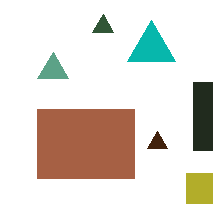rectangle: (37, 109, 134, 178), (193, 82, 212, 150), (186, 173, 212, 203)
triangle: (127, 20, 175, 61), (37, 52, 68, 78), (92, 14, 113, 32), (147, 131, 167, 148)
